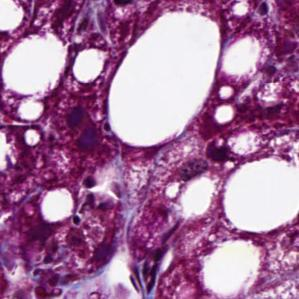inflammation: (63, 99, 109, 172), (199, 136, 239, 175)
